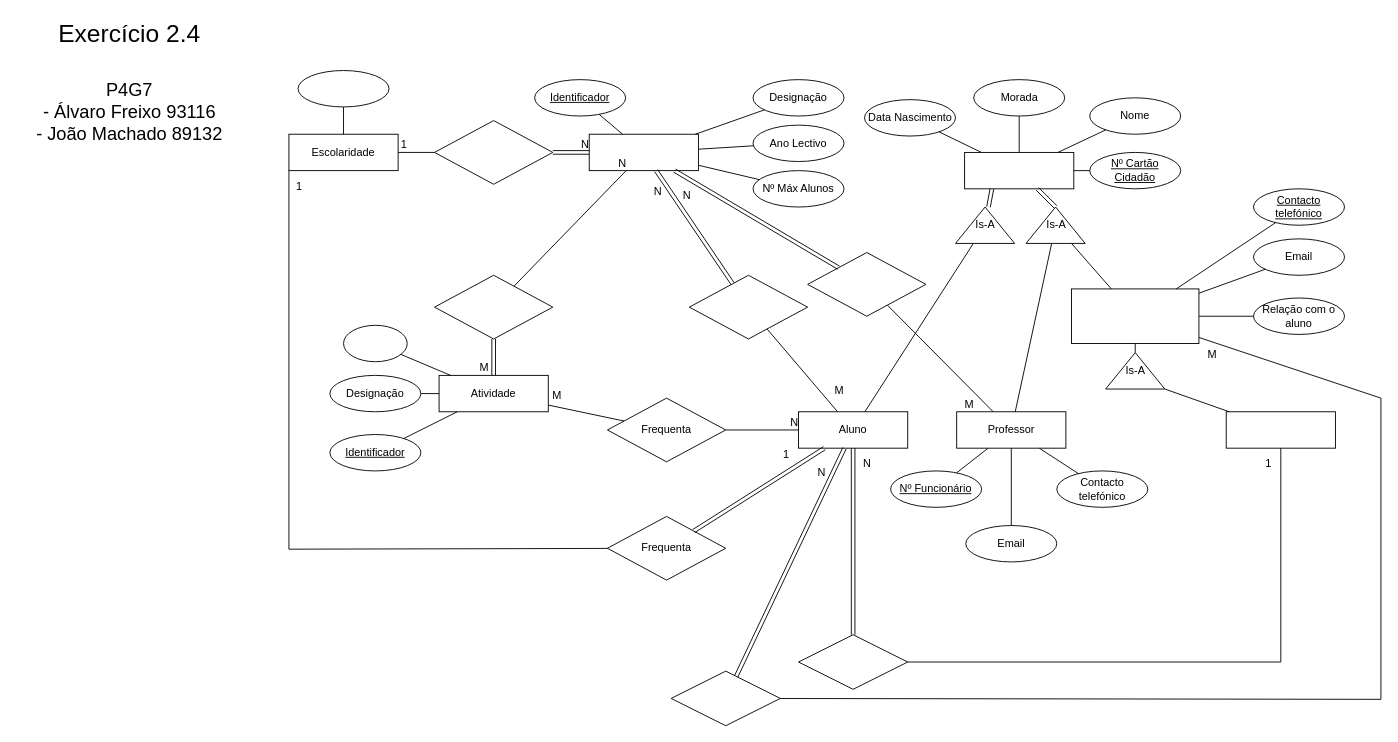
The diagram is 1398 pixels wide and 742 high, and some of its shapes have lost their labels. Each missing label, with the centre of its shape:
Boleia: point 725,698
Caracterizada por: point 493,152
Classe: point 343,88
Constituida: point 748,306
Custo: point 375,343
Disponível: point 493,306
Encarregado de Educação: point 1280,429
Lecionada: point 866,284
Pessoa: point 1019,170
Pessoa com autorização para entregar e levar o aluno: point 1135,316
Tem: point 853,661
Turmas: point 643,152
